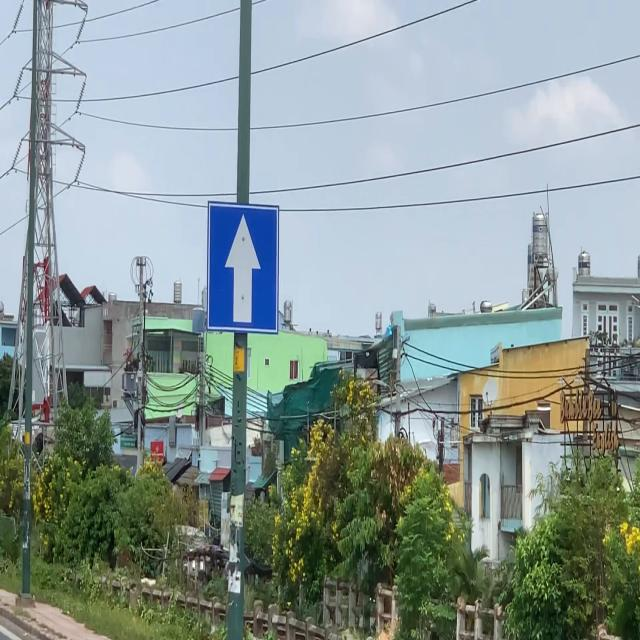Chi dan: (205, 198, 280, 336)
